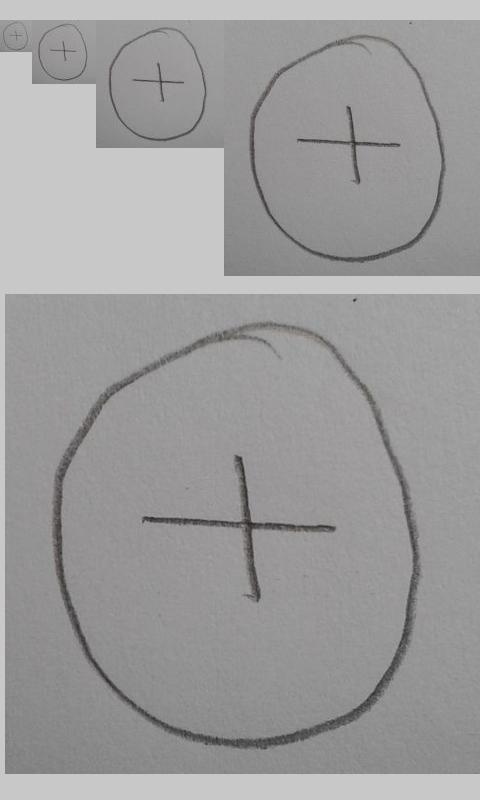button: (51, 320, 423, 748), (249, 33, 447, 264), (109, 27, 207, 141), (37, 23, 88, 81), (2, 21, 29, 51)
